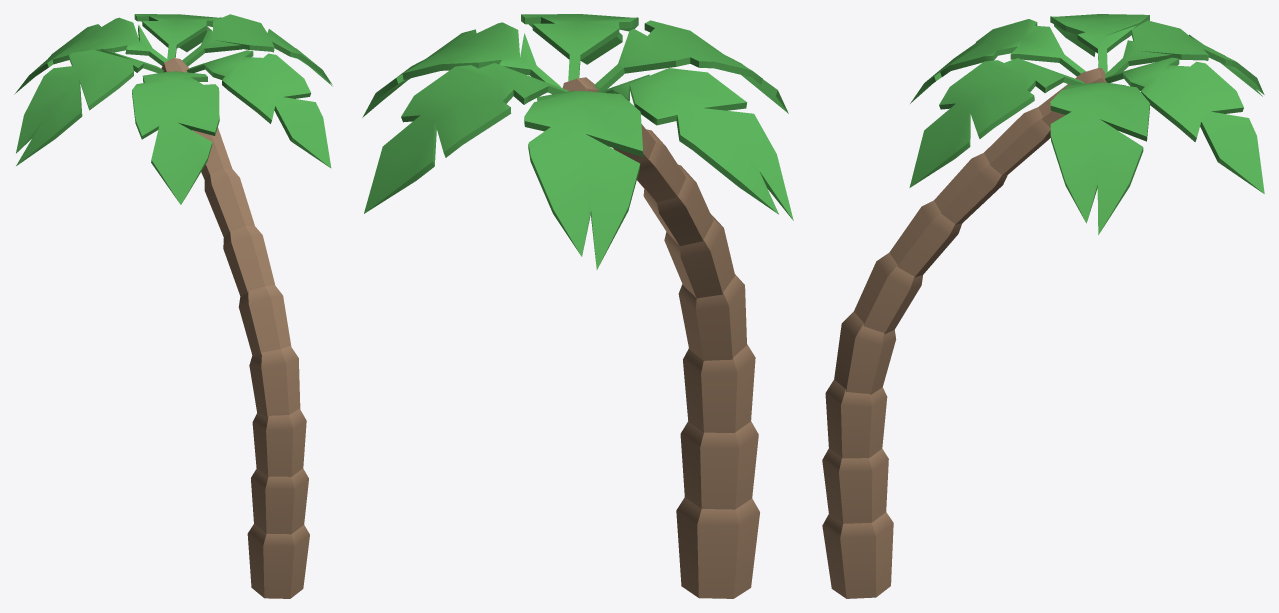
File: palm_tree_low_poly.glb
3 views of the same model, side by side, from view 1: azimuth 30°, elevation 25°; view 2: azimuth 150°, elevation 25°; view 3: azimuth 270°, elevation 25° (orthographic). The views are drawn at different scales.
Visible parts, largest first — view 1: pCylinder10, pPlane6, pPlane5, pPlane3, pPlane4, pPlane1, pPlane2; view 2: pCylinder10, pPlane1, pPlane3, pPlane2, pPlane6, pPlane4, pPlane5; view 3: pCylinder10, pPlane4, pPlane2, pPlane5, pPlane6, pPlane1, pPlane3.
Part boxes in pixels (<box>): pCylinder10: <box>161,58,309,598</box>; pPlane6: <box>132,71,219,204</box>; pPlane5: <box>186,50,331,168</box>; pPlane3: <box>16,48,163,165</box>; pPlane4: <box>182,14,332,86</box>; pPlane1: <box>14,17,167,94</box>; pPlane2: <box>134,14,221,60</box>; pCylinder10: <box>562,77,759,598</box>; pPlane1: <box>524,91,642,269</box>; pPlane3: <box>599,68,793,220</box>; pPlane2: <box>364,63,568,213</box>; pPlane6: <box>594,20,788,113</box>; pPlane4: <box>362,22,561,117</box>; pPlane5: <box>521,14,638,81</box>; pCylinder10: <box>822,68,1106,598</box>; pPlane4: <box>1050,82,1149,234</box>; pPlane2: <box>1105,57,1264,193</box>; pPlane5: <box>909,58,1085,187</box>; pPlane6: <box>910,19,1085,103</box>; pPlane1: <box>1105,20,1264,96</box>; pPlane3: <box>1050,14,1149,73</box>.
Size of the model in its own units: 0.0822 by 0.1148 by 0.0861.
